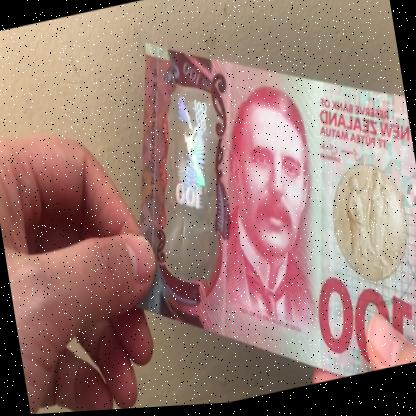100F: (146, 88, 233, 296)
